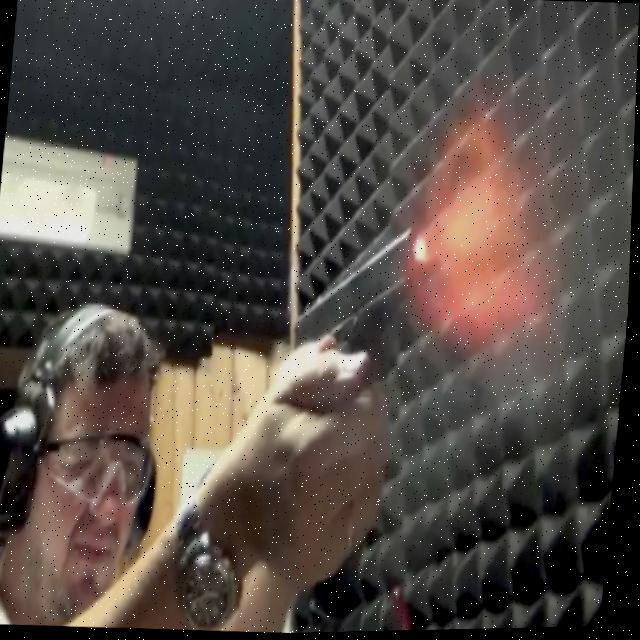pistol: (293, 218, 432, 363)
